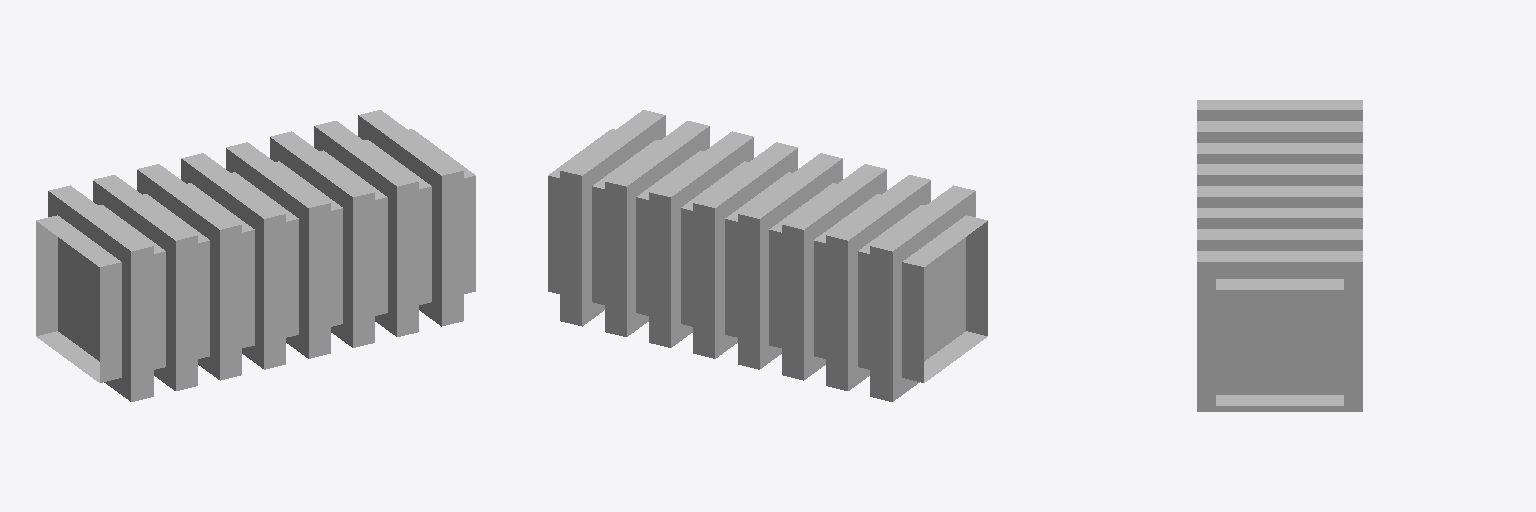
Rendered from crusher_drum_left.obj.
3 views of the same model, side by side, from view 1: azimuth 30°, elevation 25°; view 2: azimuth 150°, elevation 25°; view 3: azimuth 270°, elevation 25° (orthographic).
Parts seen in each view (by area): view 1: drum0; view 2: drum0; view 3: drum0.
Boxes of the visible parts, x1,y1,x2,y2 form: drum0: [36, 110, 475, 401]; drum0: [548, 110, 987, 401]; drum0: [1197, 100, 1362, 411].
Size of the model in its own units: 2.12 by 0.8125 by 0.8125.